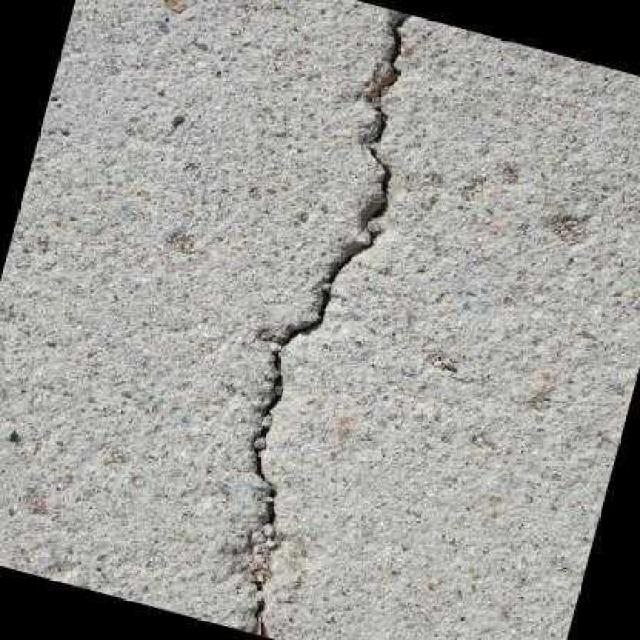D00: (244, 9, 413, 637)
